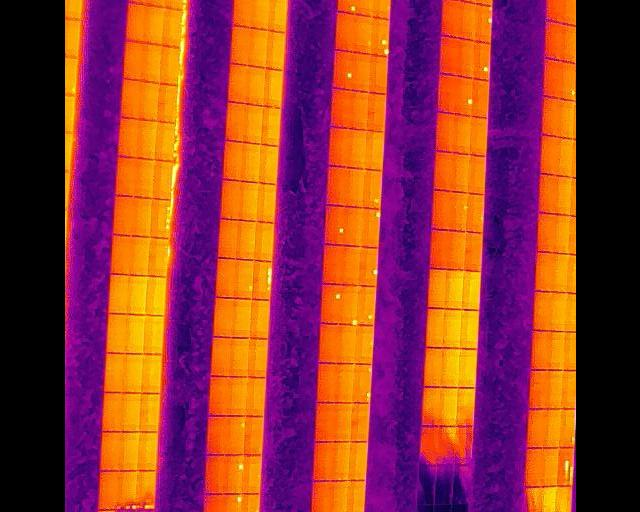Cell: (321, 284, 341, 323), (325, 205, 345, 244), (333, 51, 353, 89), (354, 325, 373, 364), (357, 286, 375, 326), (361, 209, 379, 248), (363, 170, 381, 209), (234, 260, 252, 299), (359, 247, 377, 285), (227, 416, 244, 455), (473, 43, 490, 80), (455, 76, 471, 115), (450, 192, 466, 231), (227, 455, 243, 494), (341, 285, 356, 325), (561, 60, 575, 101), (559, 409, 574, 447), (241, 494, 259, 512), (223, 494, 240, 512), (336, 0, 355, 12)
Cell-Multi: (351, 364, 371, 402), (150, 199, 169, 238), (136, 471, 154, 509), (371, 17, 388, 56), (119, 471, 136, 509), (474, 4, 491, 42), (557, 448, 573, 486)
No-Anomaly: (315, 364, 338, 403), (314, 404, 337, 442), (312, 442, 334, 481), (325, 166, 347, 205), (205, 416, 227, 455), (113, 196, 134, 235), (224, 103, 245, 142), (207, 376, 228, 415), (204, 455, 225, 494), (104, 353, 124, 393), (330, 88, 350, 128), (541, 97, 561, 137), (257, 145, 277, 185), (212, 298, 232, 338), (347, 442, 367, 481), (525, 448, 545, 487), (128, 236, 148, 275), (115, 157, 135, 196), (110, 235, 130, 274), (100, 432, 120, 471), (246, 339, 266, 378), (329, 128, 349, 167), (322, 245, 342, 284), (319, 324, 339, 363), (260, 107, 280, 146), (255, 183, 275, 222), (227, 64, 247, 103), (217, 219, 237, 258), (210, 337, 230, 376), (216, 258, 236, 297), (530, 331, 550, 370), (223, 140, 242, 181), (119, 118, 138, 158), (544, 20, 563, 60), (542, 59, 562, 97), (121, 80, 141, 118), (106, 314, 125, 354), (108, 274, 127, 314), (266, 31, 285, 71), (263, 69, 282, 109), (431, 191, 450, 230), (429, 230, 448, 269), (424, 308, 443, 347), (421, 387, 440, 426), (423, 347, 442, 386), (352, 15, 371, 54), (364, 131, 383, 170), (334, 12, 353, 51), (528, 370, 547, 409), (145, 276, 164, 315), (147, 238, 166, 277), (140, 354, 159, 393), (124, 42, 143, 81), (126, 3, 145, 42), (102, 392, 121, 431), (459, 310, 478, 349), (457, 349, 476, 388), (537, 213, 556, 252), (249, 300, 268, 339), (245, 378, 264, 417), (231, 299, 250, 338), (229, 338, 248, 377), (532, 292, 551, 331), (241, 142, 259, 183), (540, 136, 558, 177), (350, 403, 369, 441), (340, 246, 359, 284), (160, 9, 179, 47), (99, 471, 118, 509), (456, 388, 475, 426), (441, 0, 461, 36), (143, 44, 161, 84), (135, 158, 153, 198), (127, 275, 145, 315), (239, 181, 257, 221), (221, 180, 239, 220), (439, 37, 458, 74), (444, 270, 462, 309), (433, 152, 451, 191), (427, 269, 445, 308), (367, 93, 385, 132), (144, 315, 162, 354), (145, 6, 163, 45), (527, 409, 545, 448), (138, 432, 156, 471), (125, 314, 143, 353), (331, 441, 349, 480), (462, 271, 480, 310), (538, 174, 556, 213), (254, 222, 272, 261), (534, 252, 552, 291), (244, 416, 262, 455), (231, 26, 249, 65), (228, 377, 246, 416), (244, 104, 261, 145), (435, 114, 453, 152), (437, 75, 455, 113), (369, 56, 387, 94), (349, 91, 367, 129), (337, 326, 355, 364), (334, 404, 352, 442), (139, 393, 157, 431), (463, 233, 481, 271), (353, 53, 370, 93), (348, 129, 365, 169), (345, 207, 362, 247), (138, 120, 155, 160), (133, 197, 150, 237), (249, 28, 266, 68), (247, 66, 264, 106), (237, 220, 254, 260), (119, 432, 136, 471), (439, 387, 456, 426), (447, 231, 464, 270), (443, 309, 460, 348), (441, 348, 458, 387), (122, 393, 139, 432), (335, 364, 352, 403), (160, 46, 177, 85), (155, 122, 172, 161), (153, 160, 170, 199), (124, 354, 141, 393), (347, 169, 364, 207), (157, 84, 174, 122), (140, 81, 157, 119), (469, 117, 486, 155), (468, 156, 485, 194), (243, 455, 260, 493), (555, 175, 571, 215), (554, 214, 570, 254), (452, 116, 469, 153), (471, 80, 488, 117), (268, 0, 287, 33), (451, 153, 467, 192), (552, 253, 568, 292), (546, 370, 562, 409), (544, 409, 560, 448), (345, 481, 365, 512), (467, 194, 483, 232), (457, 40, 473, 77), (311, 481, 330, 512), (549, 331, 564, 370), (551, 293, 566, 332), (561, 370, 576, 409), (559, 98, 573, 139), (543, 448, 558, 486), (232, 0, 253, 27), (330, 481, 348, 512), (557, 139, 572, 176), (460, 2, 475, 39), (252, 0, 269, 29), (554, 486, 571, 512), (546, 0, 564, 23), (201, 494, 224, 512), (372, 0, 391, 21), (540, 487, 555, 512), (64, 0, 82, 20), (354, 0, 373, 17), (164, 0, 182, 9)
Shadowing: (432, 464, 454, 506), (414, 463, 435, 505), (450, 465, 470, 506), (437, 426, 455, 465), (419, 426, 437, 465), (455, 426, 473, 465), (523, 487, 541, 512)
Unclassified: (252, 260, 270, 299)
